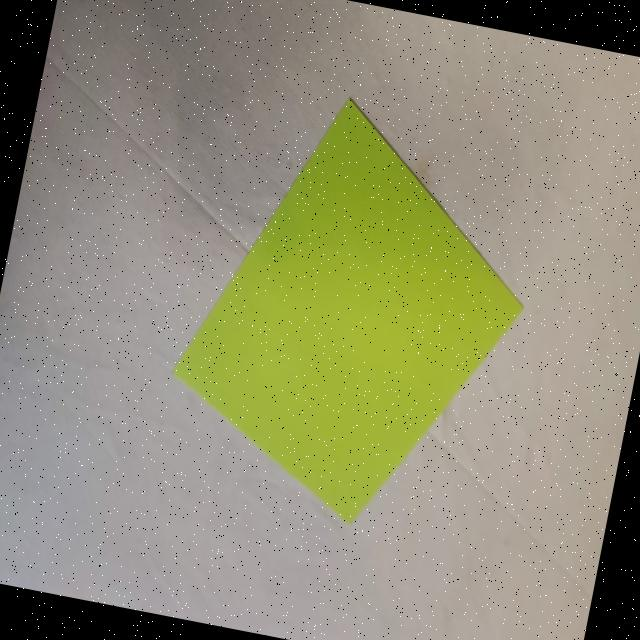Boxes: (171, 97, 525, 527)
